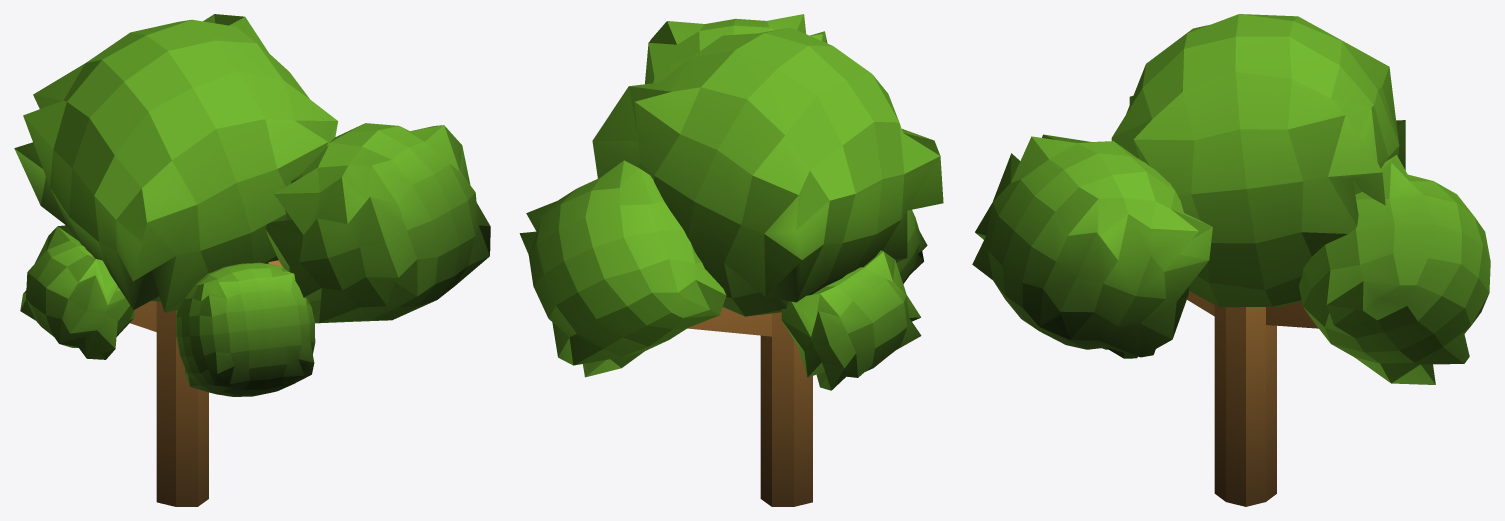
File: Tree.fbx
3 renders of one model, left to right at view 1: azimuth 30°, elevation 25°; view 2: azimuth 150°, elevation 25°; view 3: azimuth 270°, elevation 25°, orthographic. The views are drawn at different scales.
Parts seen in each view (by area): view 1: Cube.002, Cube.003, Cube.004, Cube.005, Cube; view 2: Cube.002, Cube.001, Cube.005, Cube, Cube.003, Cube.004; view 3: Cube.002, Cube.003, Cube.001, Cube.
Boxes of the visible parts, left/top/right/bottom form: Cube.002: left=14, top=14, right=338, bottom=312; Cube.003: left=266, top=123, right=490, bottom=323; Cube.004: left=176, top=262, right=315, bottom=396; Cube.005: left=20, top=225, right=134, bottom=359; Cube: left=130, top=260, right=283, bottom=506; Cube.002: left=592, top=27, right=943, bottom=316; Cube.001: left=519, top=160, right=726, bottom=377; Cube.005: left=781, top=250, right=921, bottom=390; Cube: left=687, top=307, right=812, bottom=506; Cube.003: left=645, top=14, right=827, bottom=84; Cube.004: left=896, top=209, right=927, bottom=283; Cube.002: left=1111, top=14, right=1405, bottom=307; Cube.003: left=972, top=134, right=1212, bottom=357; Cube.001: left=1299, top=155, right=1490, bottom=384; Cube: left=1187, top=291, right=1318, bottom=506.
Bounding box in the file's own units: 1329 × 1652 × 1643.
Materials: 6 (6 with a texture image).
